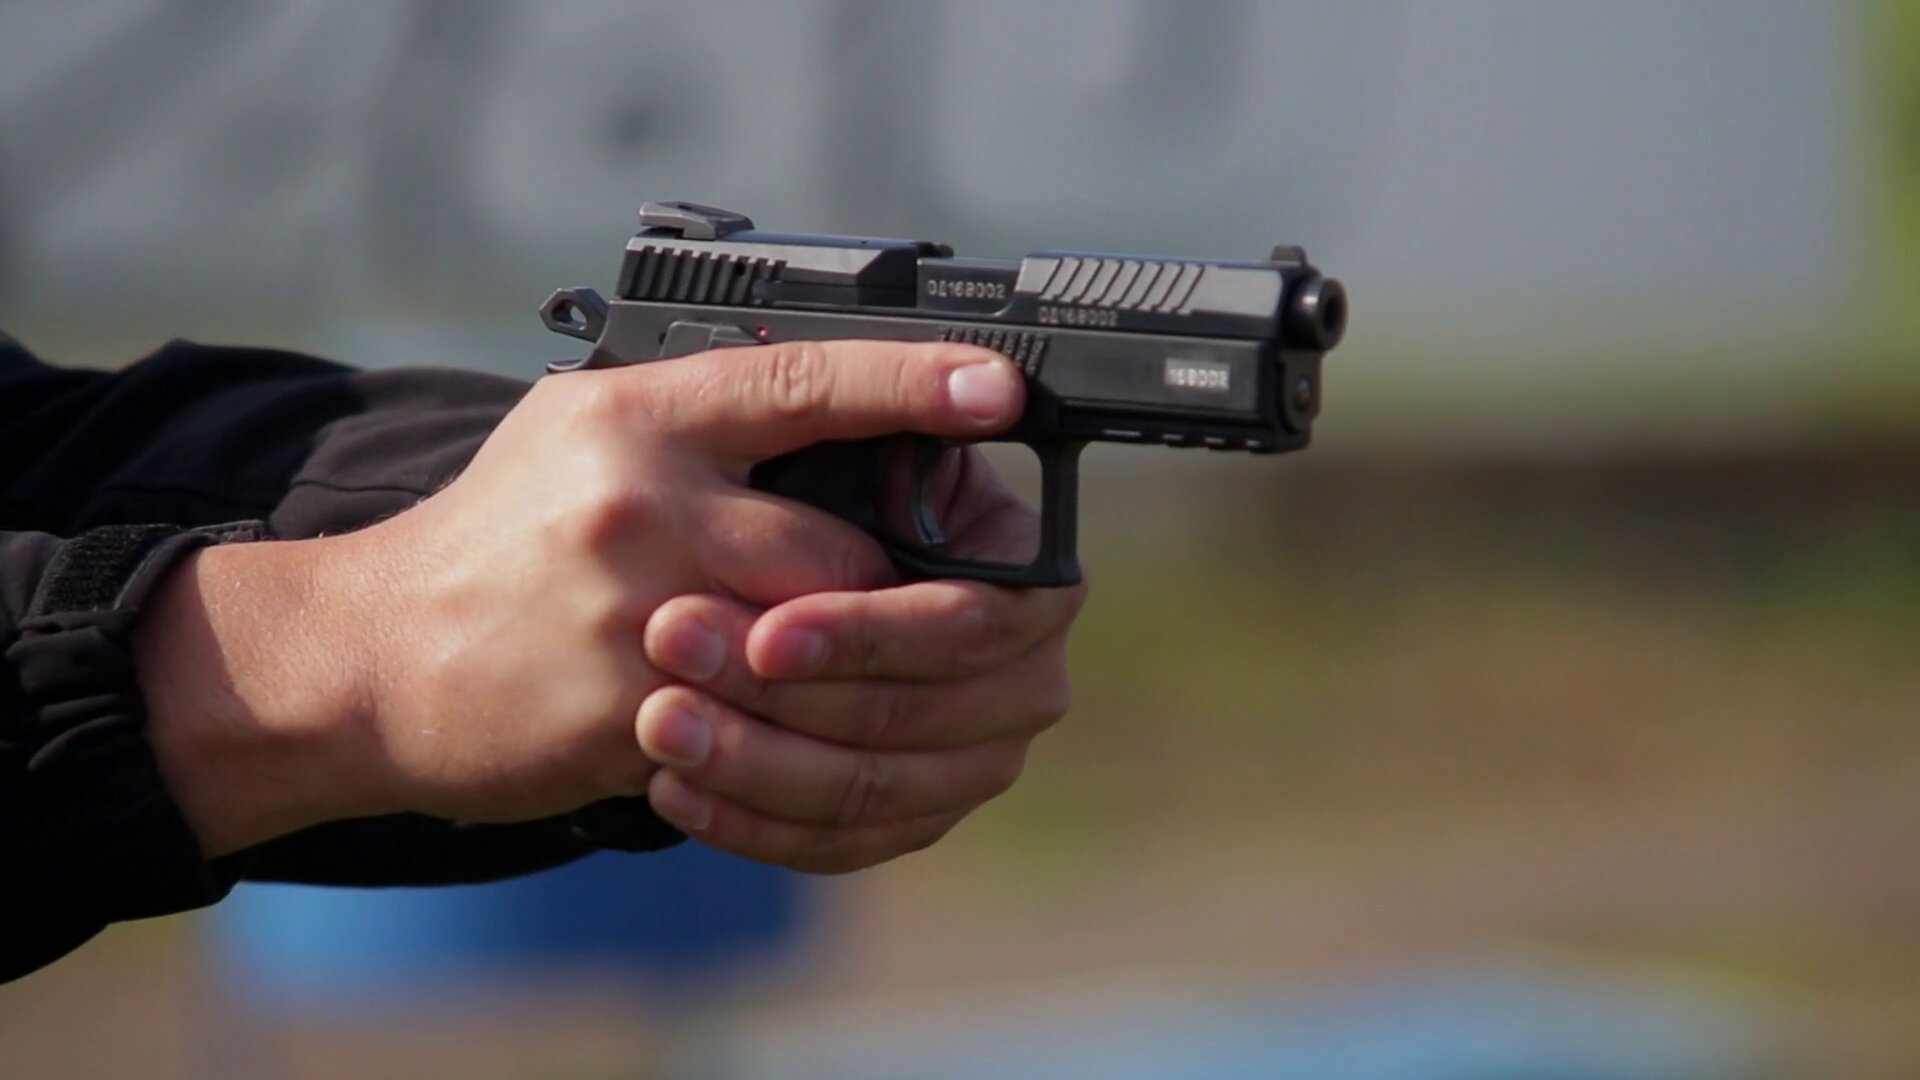pistol: (568, 203, 1364, 843)
